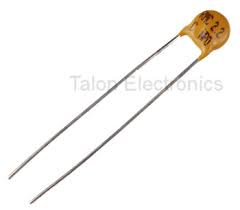ceramic capacitor: (152, 6, 232, 78)
